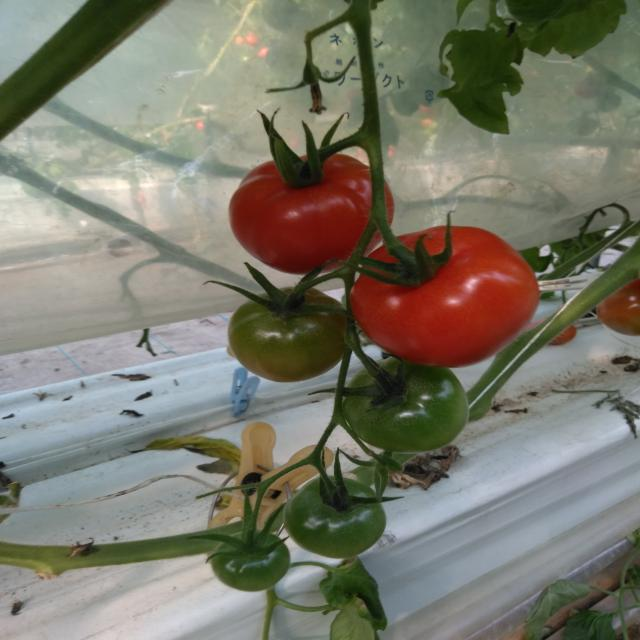c-half-riped: (596, 278, 640, 337)
c-riped: (349, 226, 540, 368), (227, 153, 395, 276)
c-unriped: (342, 355, 471, 454), (228, 286, 354, 382), (282, 476, 387, 559), (210, 530, 290, 592)
